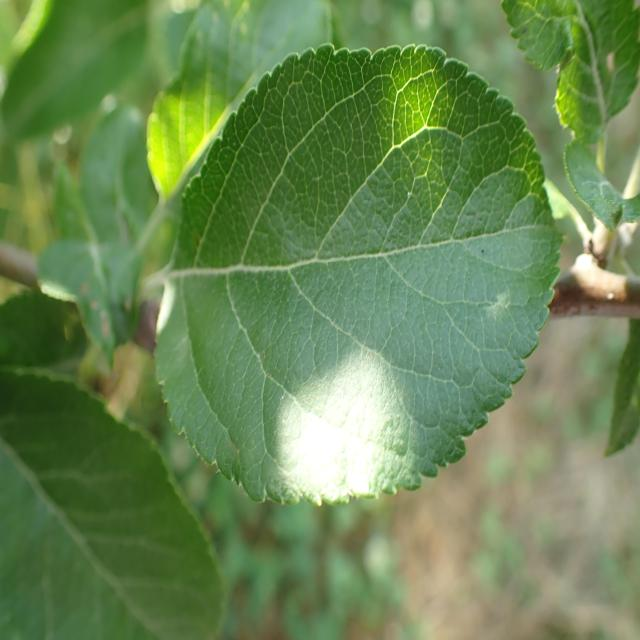healthy: (154, 43, 564, 506), (0, 366, 227, 640), (500, 0, 640, 233)
